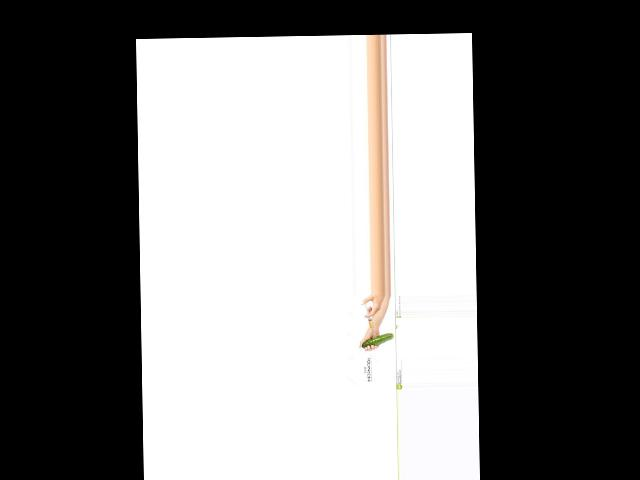cucumber: (361, 332, 394, 347)
